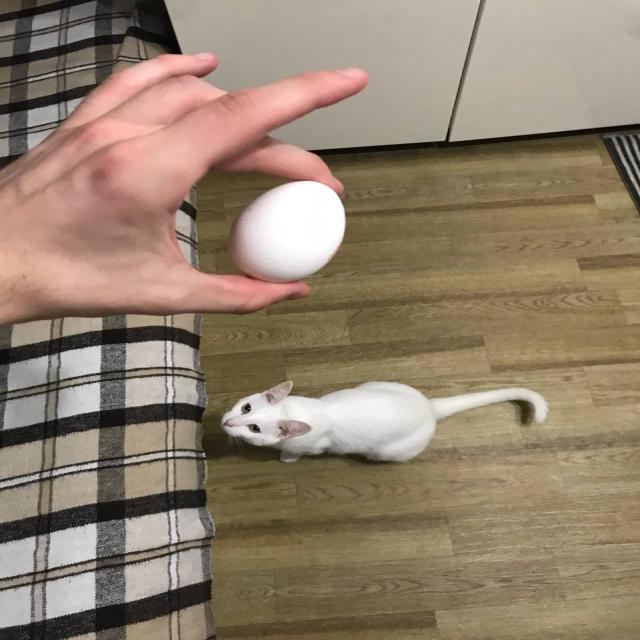egg: (226, 179, 346, 284)
